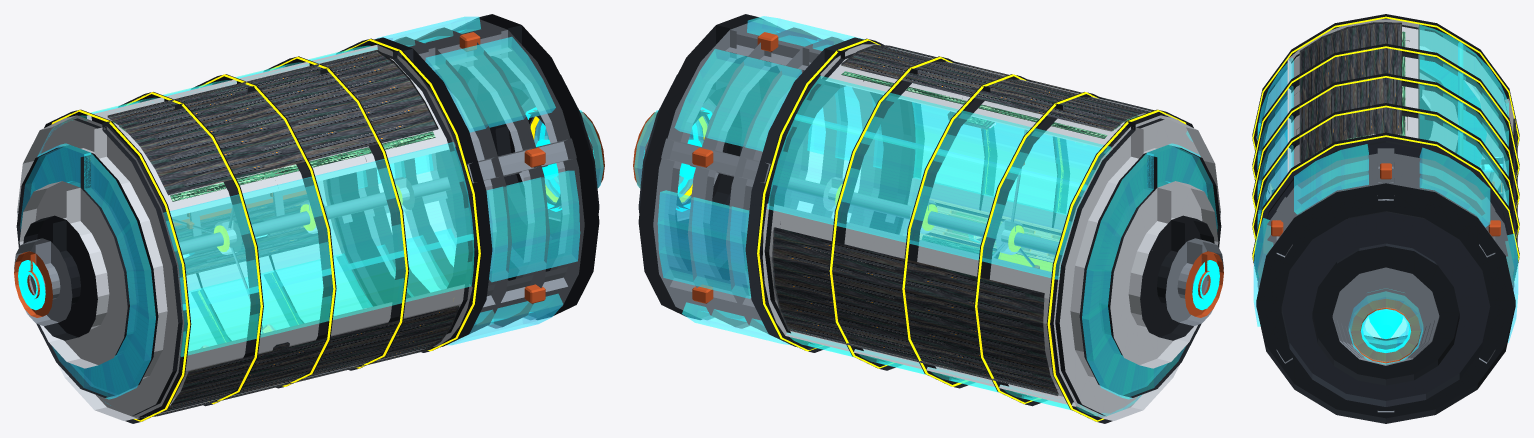
File: cylinder_winner_01_aegis7_dual_zone_split.glb
3 views of the same model, side by side, from view 1: azimuth 30°, elevation 25°; view 2: azimuth 150°, elevation 25°; view 3: azimuth 270°, elevation 25° (orthographic). The views are drawn at different scales.
Parts seen in each view (by area): view 1: Cyl02_Overhauled_glass_cyan, Cyl02_Overhauled_gunmetal, Cyl02_Overhauled_cliff_basalt, Cyl02_Overhauled_steel_machined, Cyl02_Overhauled_aero_white, Cyl02_Overhauled_glass_emerald, Cyl02_Overhauled_carbon_slate, Cyl02_Overhauled_led_amber, Cyl02_Overhauled_accent_orange, Cyl02_Overhauled_biome_canopy, Cyl02_Overhauled_led_cyan; view 2: Cyl02_Overhauled_glass_cyan, Cyl02_Overhauled_gunmetal, Cyl02_Overhauled_cliff_basalt, Cyl02_Overhauled_aero_white, Cyl02_Overhauled_steel_machined, Cyl02_Overhauled_glass_emerald, Cyl02_Overhauled_carbon_slate, Cyl02_Overhauled_led_amber, Cyl02_Overhauled_accent_orange, Cyl02_Overhauled_biome_canopy, Cyl02_Overhauled_promenade_paving, Cyl02_Overhauled_led_cyan; view 3: Cyl02_Overhauled_gunmetal, Cyl02_Overhauled_carbon_slate, Cyl02_Overhauled_glass_cyan, Cyl02_Overhauled_steel_machined, Cyl02_Overhauled_cliff_basalt, Cyl02_Overhauled_aero_white, Cyl02_Overhauled_glass_emerald, Cyl02_Overhauled_led_amber, Cyl02_Overhauled_accent_orange, Cyl02_Overhauled_led_cyan, Cyl02_Overhauled_biome_canopy.
Part boxes in pixels (x1,y1,x2,y2): Cyl02_Overhauled_glass_cyan: [20, 16, 603, 405]; Cyl02_Overhauled_gunmetal: [16, 14, 599, 423]; Cyl02_Overhauled_cliff_basalt: [107, 49, 459, 416]; Cyl02_Overhauled_steel_machined: [14, 19, 600, 333]; Cyl02_Overhauled_aero_white: [17, 44, 472, 420]; Cyl02_Overhauled_glass_emerald: [62, 45, 474, 356]; Cyl02_Overhauled_carbon_slate: [256, 37, 599, 350]; Cyl02_Overhauled_led_amber: [51, 39, 558, 421]; Cyl02_Overhauled_accent_orange: [14, 32, 604, 317]; Cyl02_Overhauled_biome_canopy: [112, 121, 435, 201]; Cyl02_Overhauled_led_cyan: [18, 107, 594, 310]; Cyl02_Overhauled_glass_cyan: [634, 16, 1217, 416]; Cyl02_Overhauled_gunmetal: [638, 14, 1221, 423]; Cyl02_Overhauled_cliff_basalt: [772, 45, 1154, 395]; Cyl02_Overhauled_aero_white: [762, 44, 1220, 420]; Cyl02_Overhauled_steel_machined: [637, 19, 1223, 333]; Cyl02_Overhauled_glass_emerald: [786, 76, 1111, 415]; Cyl02_Overhauled_carbon_slate: [638, 37, 918, 350]; Cyl02_Overhauled_led_amber: [679, 39, 1186, 421]; Cyl02_Overhauled_accent_orange: [633, 32, 1223, 317]; Cyl02_Overhauled_biome_canopy: [841, 71, 1138, 257]; Cyl02_Overhauled_promenade_paving: [919, 198, 1061, 261]; Cyl02_Overhauled_led_cyan: [643, 107, 1219, 310]; Cyl02_Overhauled_gunmetal: [1252, 14, 1519, 423]; Cyl02_Overhauled_carbon_slate: [1253, 137, 1518, 406]; Cyl02_Overhauled_glass_cyan: [1253, 42, 1518, 364]; Cyl02_Overhauled_steel_machined: [1257, 148, 1514, 412]; Cyl02_Overhauled_cliff_basalt: [1267, 22, 1517, 243]; Cyl02_Overhauled_aero_white: [1256, 19, 1516, 237]; Cyl02_Overhauled_glass_emerald: [1257, 24, 1463, 229]; Cyl02_Overhauled_led_amber: [1252, 16, 1519, 261]; Cyl02_Overhauled_accent_orange: [1271, 163, 1502, 363]; Cyl02_Overhauled_led_cyan: [1361, 309, 1410, 352]; Cyl02_Overhauled_biome_canopy: [1312, 31, 1405, 155].
Bounding box in the file's own units: 800 × 400 × 400.
Materials: 19 (19 with a texture image).
